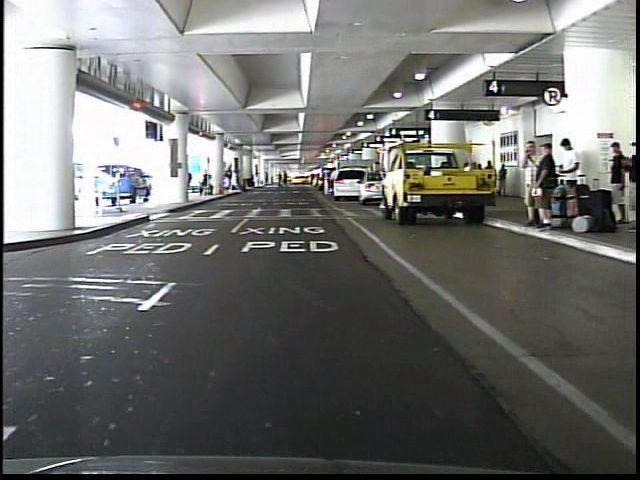person: (516, 139, 540, 225), (620, 137, 640, 226)
